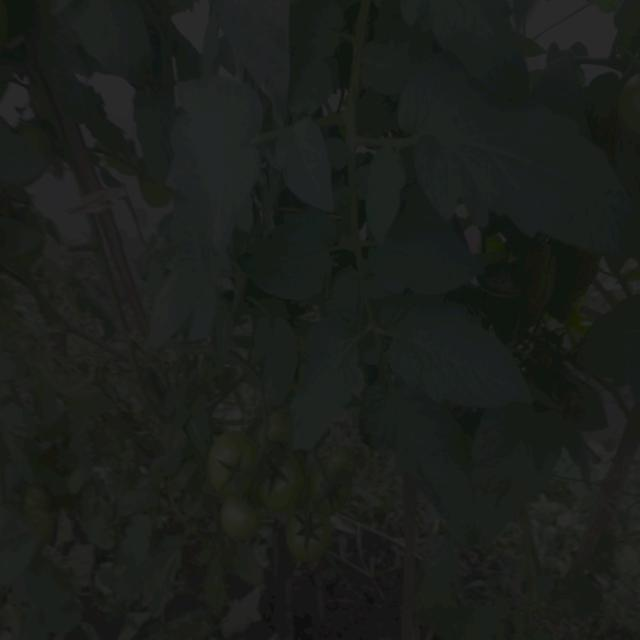tomato: (205, 437, 270, 494), (261, 451, 308, 517), (289, 508, 337, 558), (252, 403, 299, 443), (23, 482, 56, 536), (221, 494, 257, 539), (613, 79, 640, 131)
